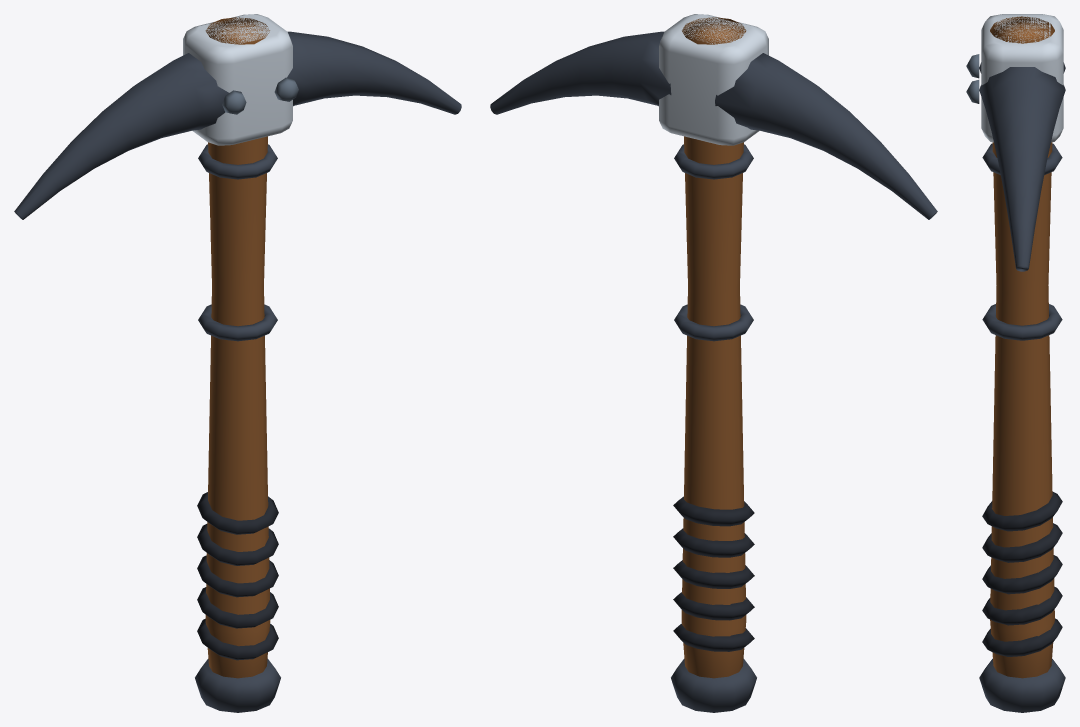
The model's file is IcePick_T3.fbx.
3 views of the same model, side by side, from view 1: azimuth 30°, elevation 25°; view 2: azimuth 150°, elevation 25°; view 3: azimuth 270°, elevation 25° (orthographic).
Parts seen in each view (by area): view 1: IcePickT3Handle, IcePickT3Head; view 2: IcePickT3Handle, IcePickT3Head; view 3: IcePickT3Handle, IcePickT3Head.
Part boxes in pixels (x1,y1,x2,y2): IcePickT3Handle: (195, 17, 280, 712); IcePickT3Head: (14, 14, 461, 219); IcePickT3Handle: (671, 17, 756, 712); IcePickT3Head: (490, 14, 937, 219); IcePickT3Handle: (979, 16, 1065, 712); IcePickT3Head: (966, 14, 1065, 271).
Size of the model in its own units: 237 by 340 by 46.
